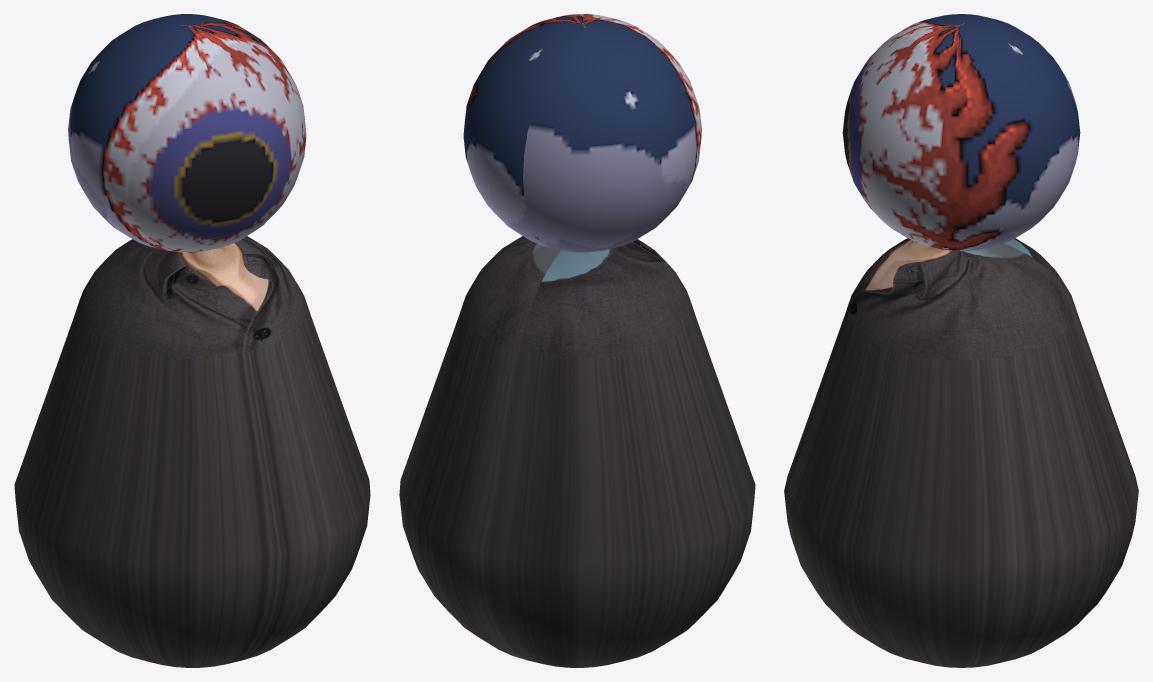
The model's file is Terraria.glb.
3 renders of one model, left to right at view 1: azimuth 30°, elevation 25°; view 2: azimuth 150°, elevation 25°; view 3: azimuth 270°, elevation 25°, orthographic.
Visible parts, largest first — view 1: Sphere.004; view 2: Sphere.004; view 3: Sphere.004.
Boxes of the visible parts, left/top/right/bottom form: Sphere.004: left=14, top=14, right=370, bottom=667; Sphere.004: left=399, top=14, right=755, bottom=667; Sphere.004: left=784, top=14, right=1138, bottom=667.
Bounding box in the file's own units: 1.52 × 2.95 × 1.52.
Materials: 2 (2 with a texture image).
